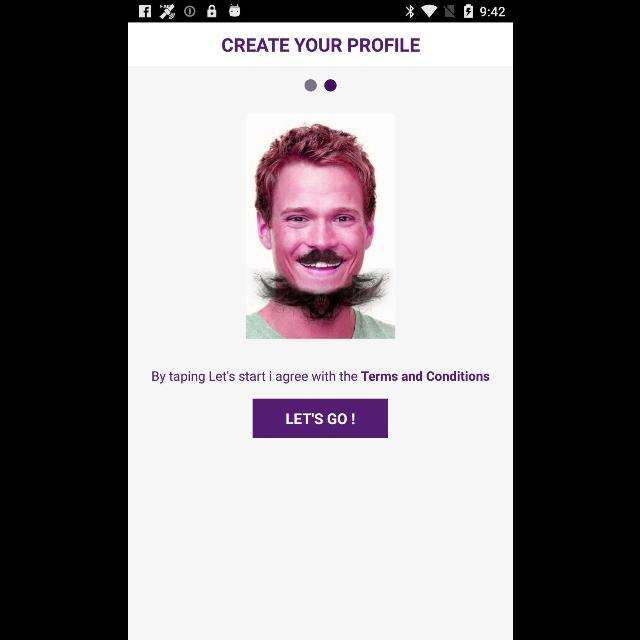image: (245, 114, 395, 338)
pageindicator: (304, 80, 336, 92)
text: (152, 371, 488, 384), (221, 38, 419, 52)
textbutton: (252, 398, 388, 438)
uppertaskbar: (128, 1, 512, 23)
